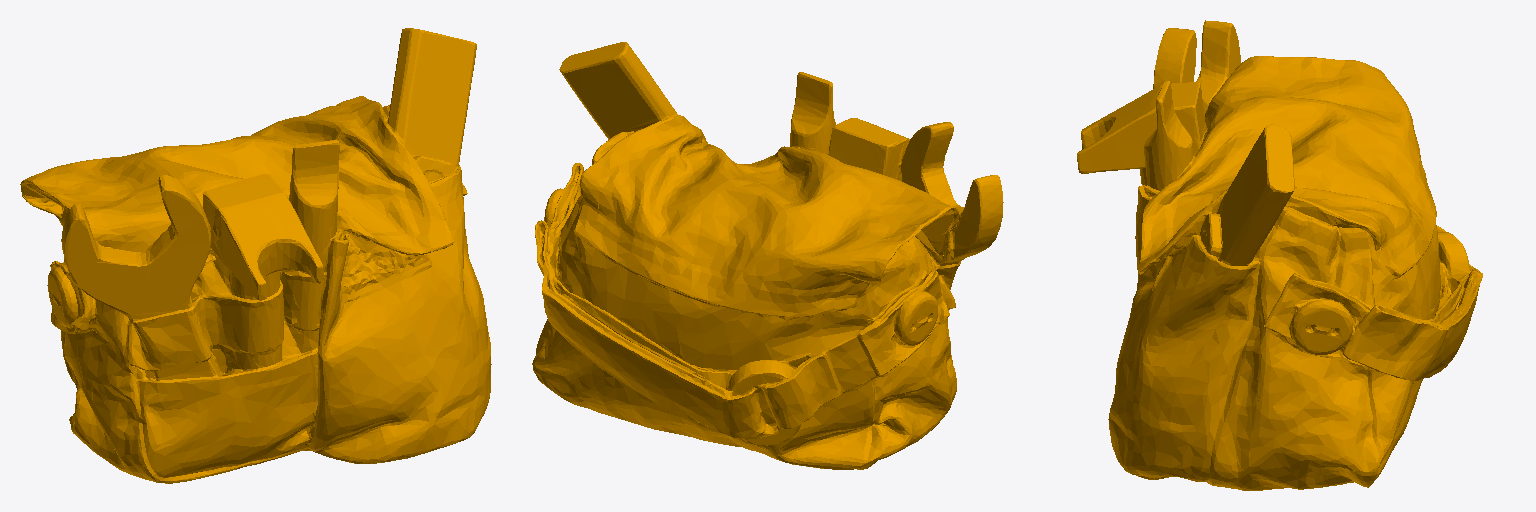
The robot description file, URDF, robot "2oiqpnts":
<?xml version='1.0'?>

<robot name="2oiqpnts">
    <static>false</static>
    <link name="link">
        <inertial>
            <mass value="0.05528045367239067"/>
            <inertia ixx="3.494552781381753e-05" ixy="2.974337985563536e-07" ixz="2.1824185150144872e-06"
                     iyy="5.4413618026187155e-05" iyz="-7.811365408964247e-08" izz="5.302738346507475e-05"/>
        </inertial>
        <collision name="collision">
            <geometry>
                <mesh filename="package://miscnet/train/2oiqpnts/collision_model_vhacd.obj"/>
            </geometry>
        </collision>
        <visual name="visual">
            <geometry>
                <mesh filename="package://miscnet/train/2oiqpnts/visual_model.obj"/>
            </geometry>
        </visual>
    </link>
</robot>

--- What the picture shows (computed from the rendered views, not written in the file) ---
The picture shows the robot from 3 angles, left to right: view 1: azimuth 30°, elevation 25°; view 2: azimuth 150°, elevation 25°; view 3: azimuth 270°, elevation 25°; orthographic projection.
Robot: 2oiqpnts — 1 links, 0 joints (none); root link link; default pose: every joint at zero.
Links seen in each view (by area): view 1: link; view 2: link; view 3: link.
Link boxes in pixels (x1,y1,x2,y2): link: (20,28,491,483); link: (532,42,1003,469); link: (1077,20,1482,490).
Bounding box of the posed robot: 0.1154 × 0.0914 × 0.0899 m (x, y, z).
Meshes: 1 distinct files referenced, 1 mesh visuals loaded (1 OBJ).
